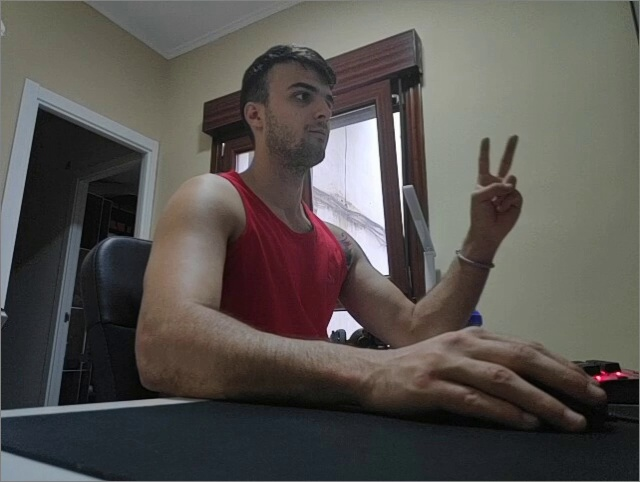Peace: (470, 133, 524, 241)
